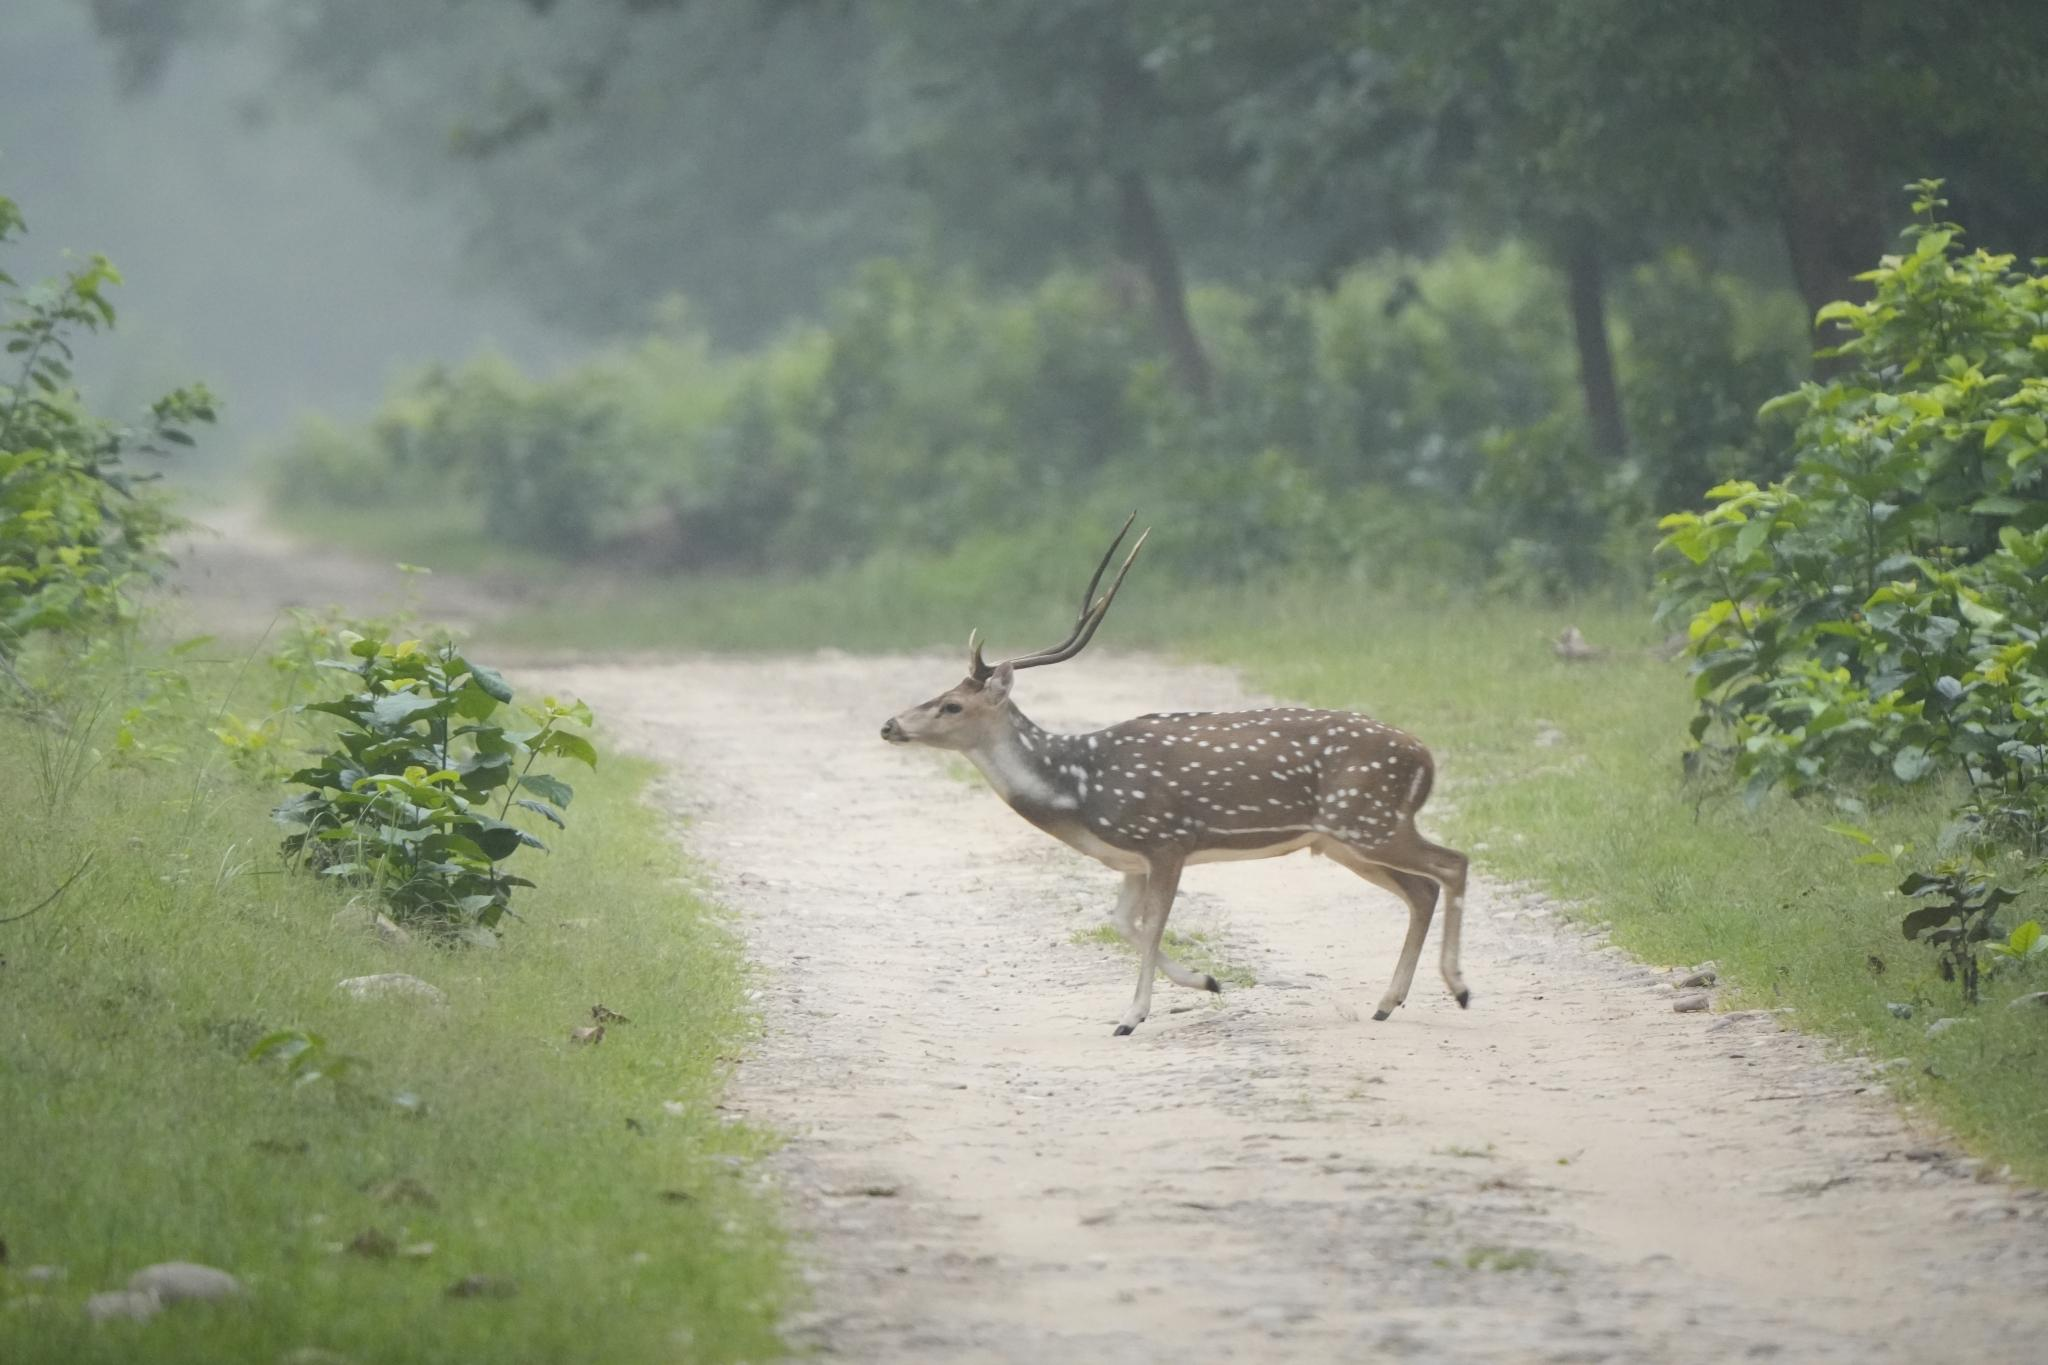Deer: (882, 635, 1469, 1033)
